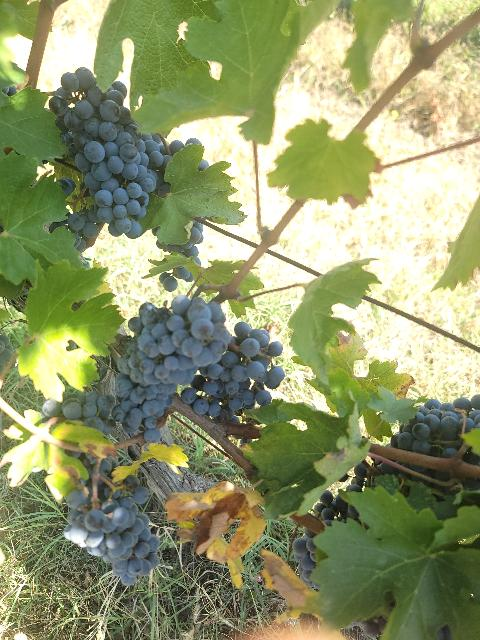grapes: (49, 68, 156, 238), (181, 321, 285, 421), (64, 478, 160, 585), (128, 295, 230, 385)
